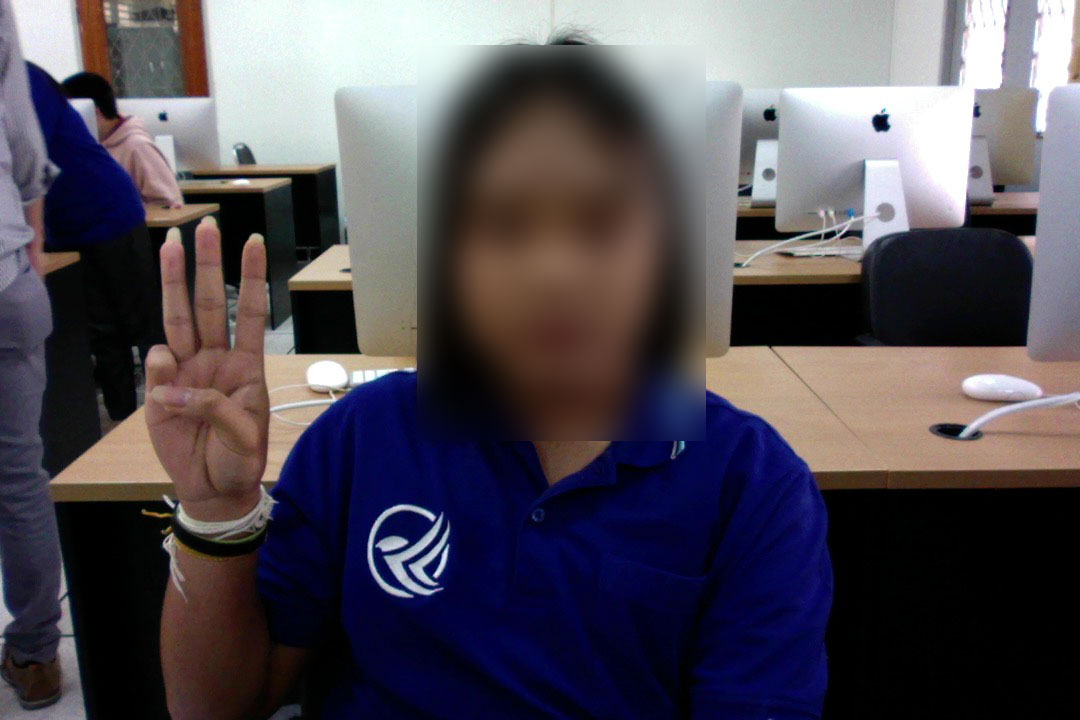wor: (139, 218, 282, 507)
